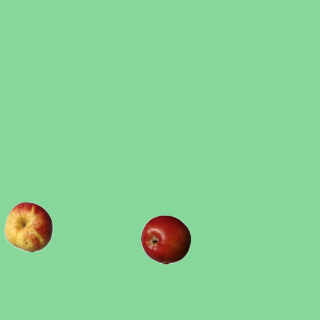Apple Braeburn: (140, 214, 190, 264)
Apple Red Yellow 1: (3, 201, 53, 251)
